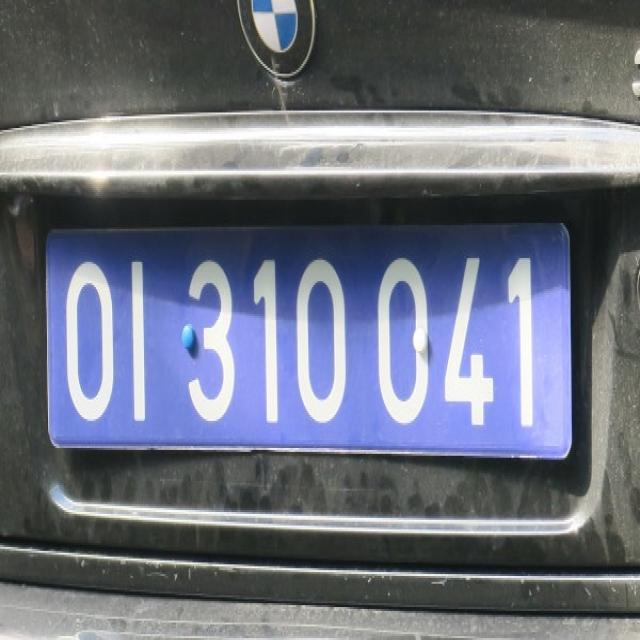licenseplate: (30, 154, 602, 497)
